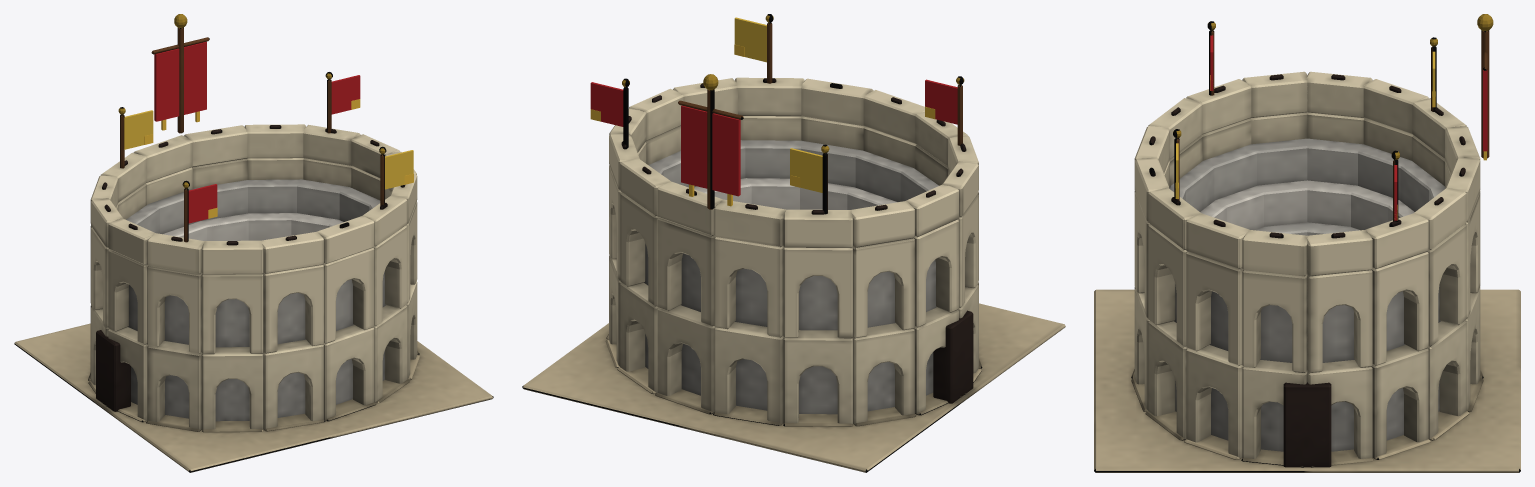
The model's file is amfiteatr.glb.
3 views of the same model, side by side, from view 1: azimuth 30°, elevation 25°; view 2: azimuth 150°, elevation 25°; view 3: azimuth 270°, elevation 25° (orthographic). The views are drawn at different scales.
Parts seen in each view (by area): view 1: amfiteatr, anim_kolys_sztandar_1, anim_kolys_flaga_velarium_0, anim_kolys_flaga_velarium_2, anim_kolys_flaga_velarium_1, anim_kolys_flaga_velarium_3; view 2: amfiteatr, anim_kolys_sztandar_1, anim_kolys_flaga_velarium_0, anim_kolys_flaga_velarium_2, anim_kolys_flaga_velarium_1, anim_kolys_flaga_velarium_3; view 3: amfiteatr.
Part boxes in pixels (x1,y1,x2,y2): amfiteatr: (14,14,493,472); anim_kolys_sztandar_1: (154,41,206,130); anim_kolys_flaga_velarium_0: (331,75,360,114); anim_kolys_flaga_velarium_2: (188,184,217,223); anim_kolys_flaga_velarium_1: (124,110,153,149); anim_kolys_flaga_velarium_3: (385,150,413,189); amfiteatr: (522,14,1065,472); anim_kolys_sztandar_1: (681,105,740,206); anim_kolys_flaga_velarium_0: (590,82,623,126); anim_kolys_flaga_velarium_2: (925,79,957,124); anim_kolys_flaga_velarium_1: (790,148,822,192); anim_kolys_flaga_velarium_3: (734,17,766,62); amfiteatr: (1094,14,1520,472).
Bounding box in the file's own units: 1.8 × 1.72 × 1.8.
4 materials, 1 textured.
